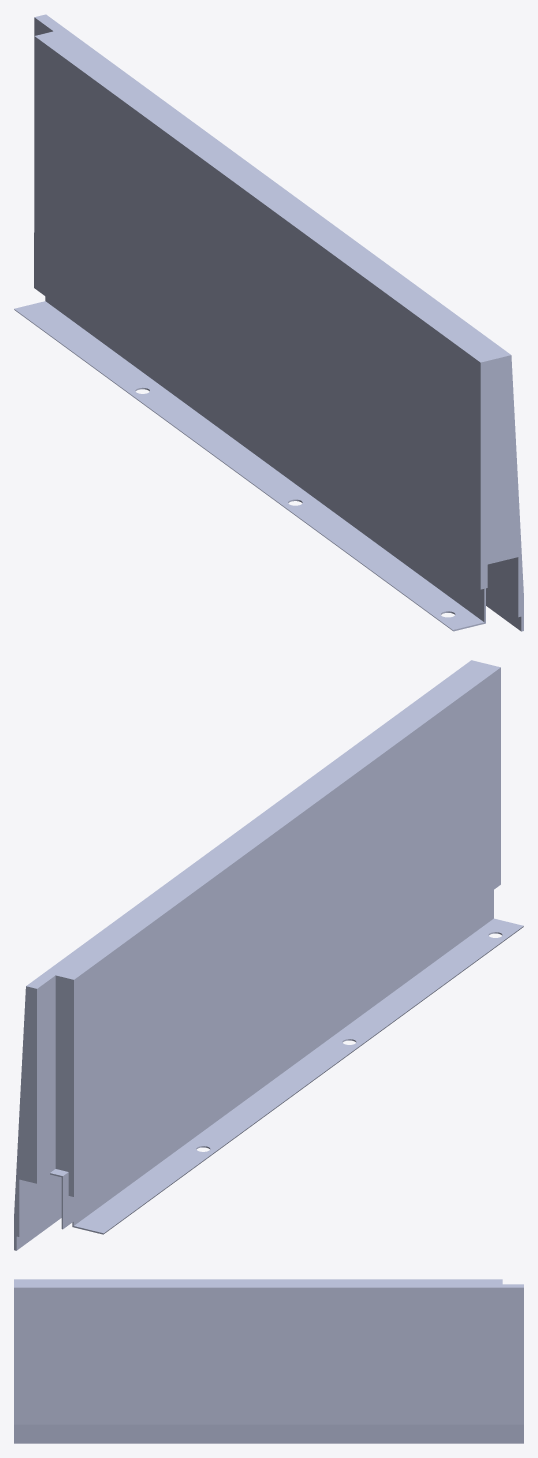
Rendered from mv-kava-K400-m.glb.
The picture shows the model from 3 angles, top to bottom: view 1: azimuth 30°, elevation 25°; view 2: azimuth 150°, elevation 25°; view 3: azimuth 270°, elevation 25°; orthographic projection. The views are drawn at different scales.
Parts seen in each view (by area): view 1: 43393158; view 2: 43393158; view 3: 43393158.
Part boxes in pixels (box(x1,y1,x2,y2)): 43393158: box(14, 14, 523, 631); 43393158: box(14, 660, 523, 1250); 43393158: box(14, 1279, 523, 1443).
Bounding box in the file's own units: 0.0335 × 0.129 × 0.3902.
